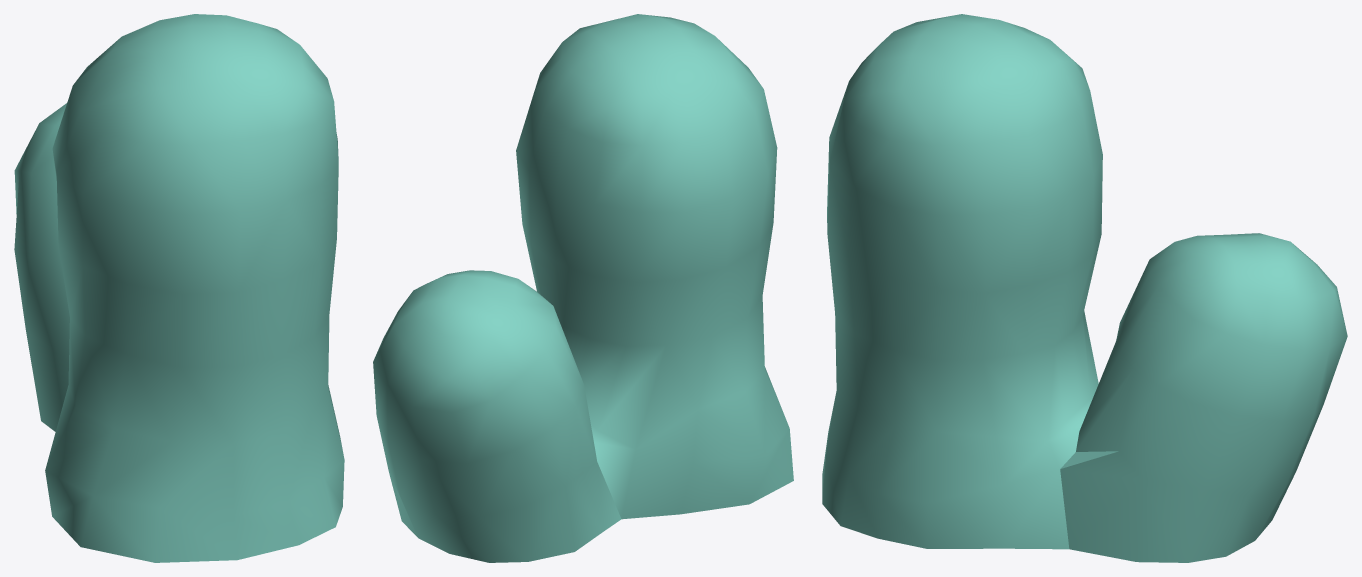
The model's file is Mesh_grassVolume01.fbx.
3 views of the same model, side by side, from view 1: azimuth 30°, elevation 25°; view 2: azimuth 150°, elevation 25°; view 3: azimuth 270°, elevation 25° (orthographic). The views are drawn at different scales.
Parts seen in each view (by area): view 1: GeoSphere004; view 2: GeoSphere004; view 3: GeoSphere004.
Part boxes in pixels (x1=…): GeoSphere004: x1=14, y1=14, x2=344, y2=562; GeoSphere004: x1=373, y1=14, x2=793, y2=562; GeoSphere004: x1=822, y1=14, x2=1347, y2=562.
Bounding box in the file's own units: 15.95 × 25.07 × 24.46.
